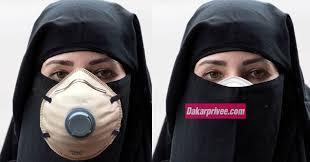Wearing Mask: (23, 6, 152, 162)
